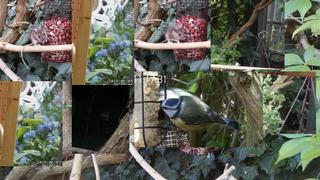blue tit: (158, 95, 239, 131)
mouse: (20, 24, 48, 71), (150, 24, 187, 51)
